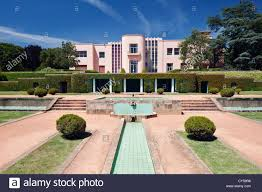serralves: (64, 30, 225, 74)
